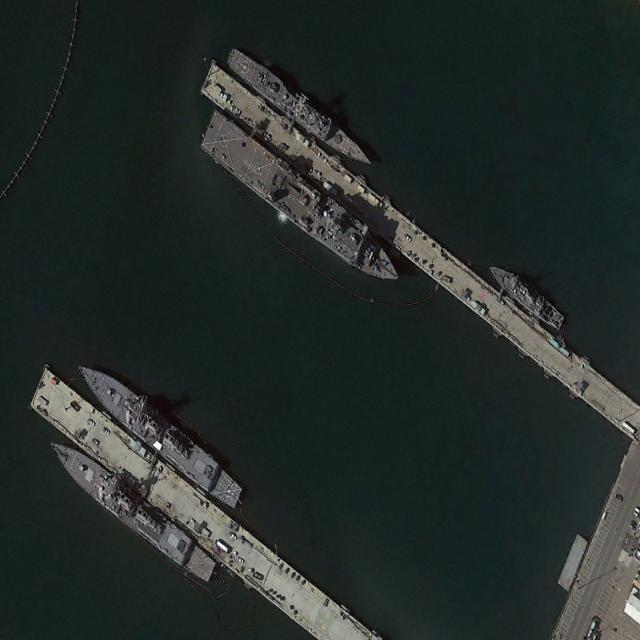Commander: (198, 107, 405, 298)
Destroyer: (71, 349, 247, 512), (43, 427, 218, 589)
Frigate: (224, 42, 377, 176)
Other Ship: (485, 256, 567, 334)
